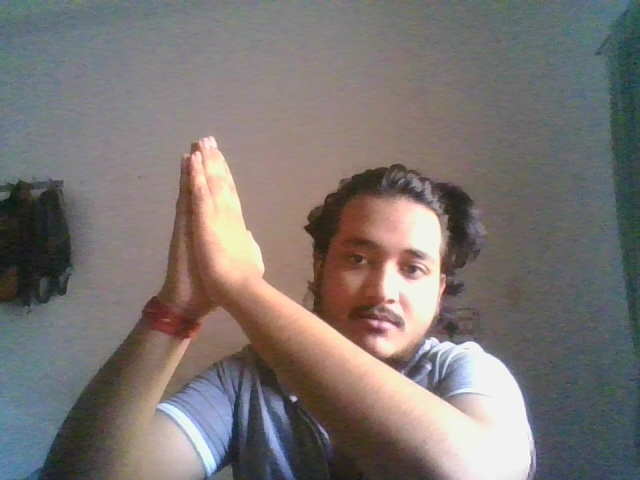ThankYou: (166, 134, 266, 307)
